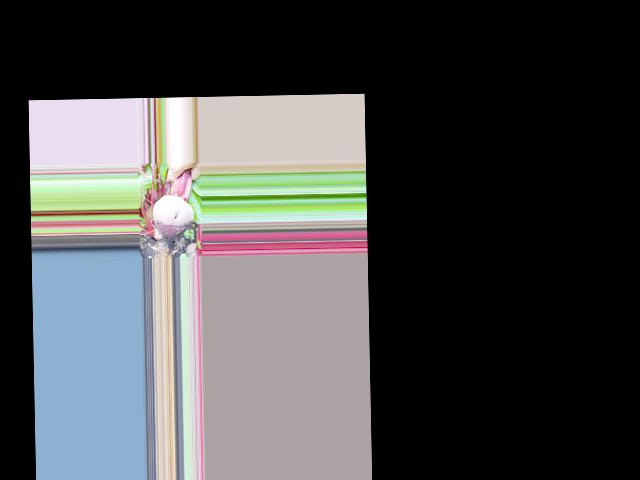beet: (151, 168, 194, 258)
